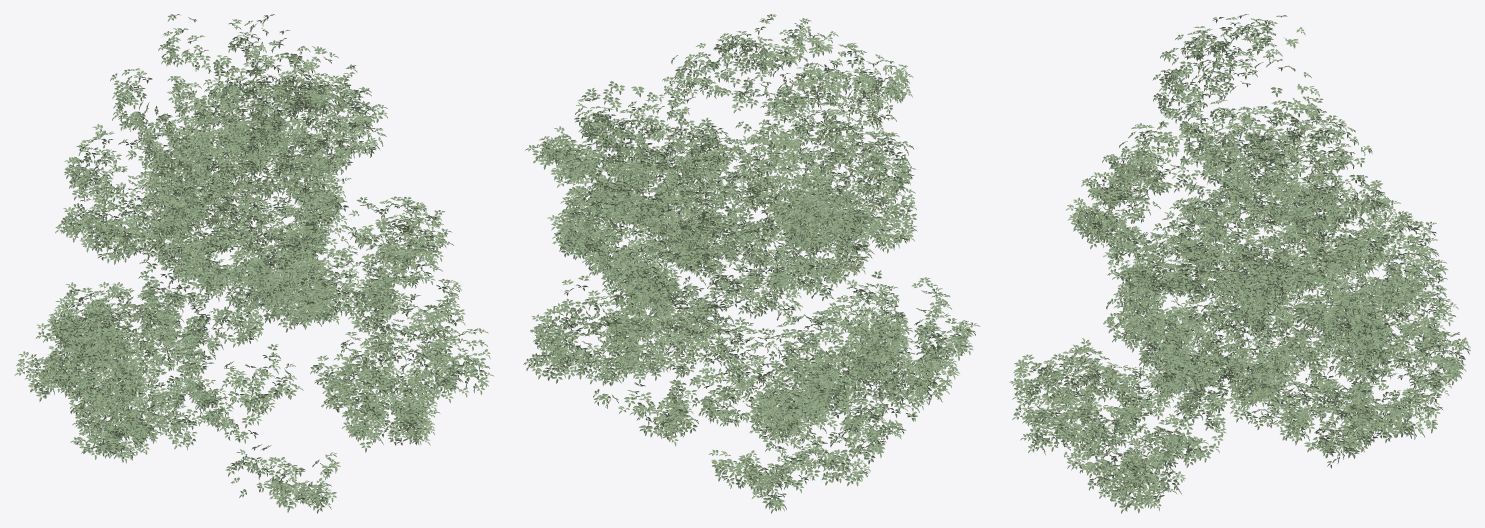
Rendered from lujiazui-32.glb.
3 views of the same model, side by side, from view 1: azimuth 30°, elevation 25°; view 2: azimuth 150°, elevation 25°; view 3: azimuth 270°, elevation 25° (orthographic).
Visible parts, largest first — view 1: source_4861_leaf_part3, source_4861_leaf_part5, source_4861_leaf_part4; view 2: source_4861_leaf_part3, source_4861_leaf_part5, source_4861_leaf_part4; view 3: source_4861_leaf_part3, source_4861_leaf_part4, source_4861_leaf_part5.
Part boxes in pixels (x1,y1,x2,y2): source_4861_leaf_part3: (47, 14, 465, 513); source_4861_leaf_part5: (55, 46, 387, 347); source_4861_leaf_part4: (14, 170, 493, 440); source_4861_leaf_part3: (574, 14, 919, 513); source_4861_leaf_part5: (525, 70, 917, 354); source_4861_leaf_part4: (523, 124, 980, 446); source_4861_leaf_part3: (1009, 14, 1398, 513); source_4861_leaf_part4: (1012, 224, 1470, 460); source_4861_leaf_part5: (1065, 96, 1448, 380).
Size of the model in its own units: 7.69 by 8.35 by 7.56.
